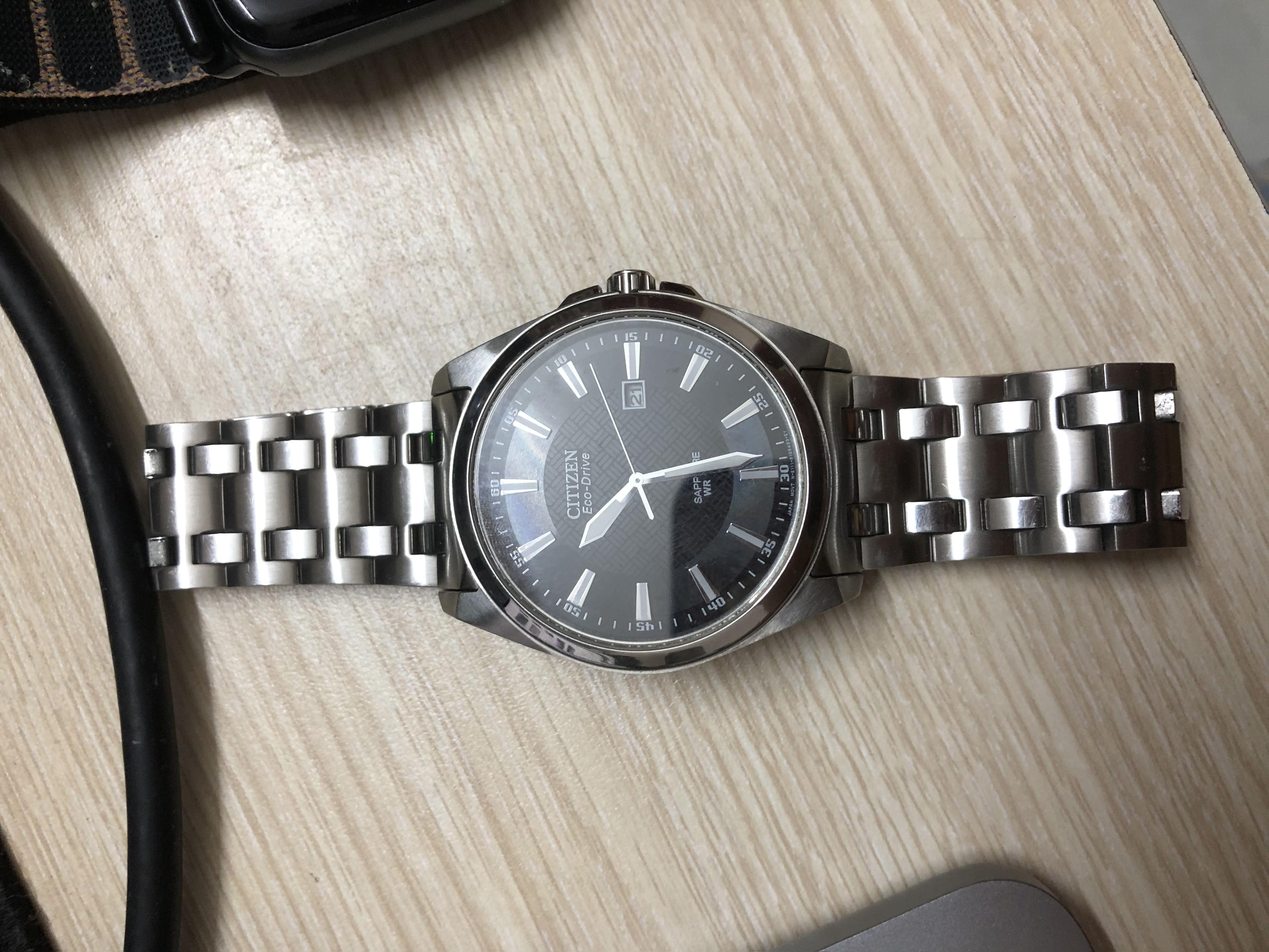watch: (357, 98, 917, 906)
